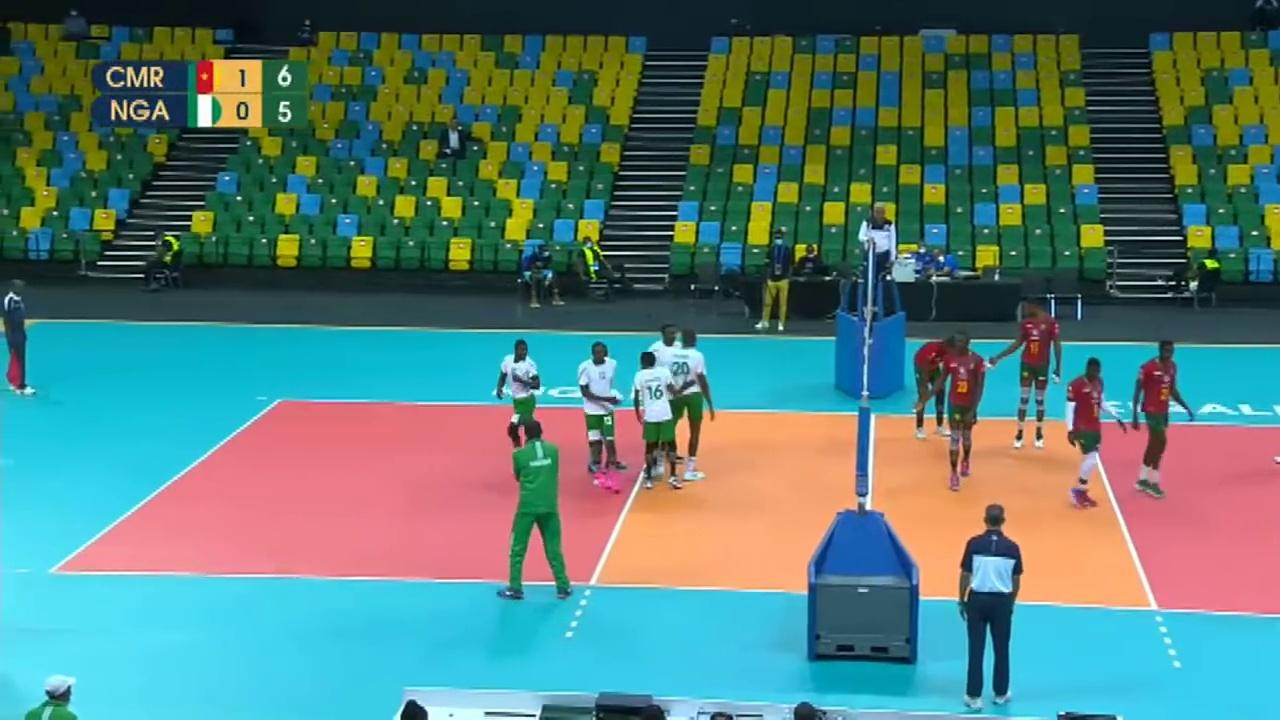player: (1126, 340, 1191, 495), (996, 299, 1062, 450), (627, 349, 687, 496), (934, 332, 988, 491), (671, 330, 721, 486), (1065, 355, 1115, 503), (581, 344, 625, 493), (647, 316, 686, 473), (909, 334, 963, 444), (504, 338, 546, 479)
refree: (957, 505, 1023, 708), (856, 201, 897, 311), (2, 280, 35, 397)
